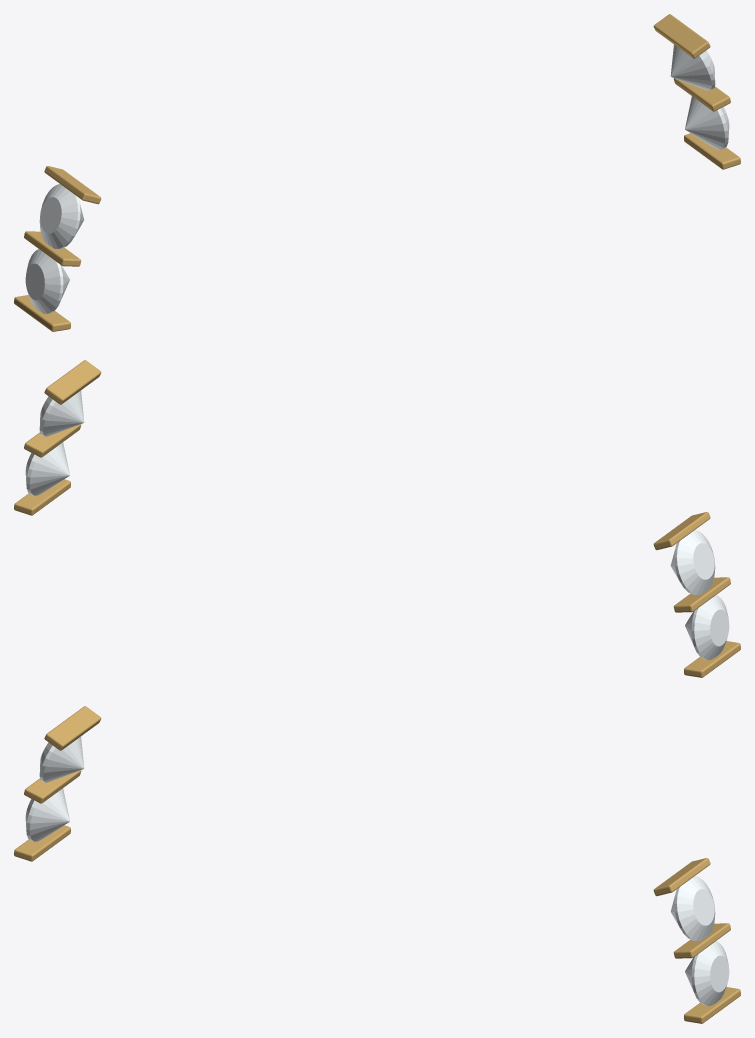
File: accents-bar-multi.glb
The picture shows the model from 3 angles, top to bottom: view 1: azimuth 30°, elevation 25°; view 2: azimuth 150°, elevation 25°; view 3: azimuth 330°, elevation 25°; orthographic projection.
Visible parts, largest first — view 1: Gem, Gem.001, Gem.003, Gem.002, Setting bar.003, Setting bar.005, Setting bar, Setting bar.002, Setting bar.004, Setting bar.001; view 2: Gem, Gem.001, Gem.003, Gem.002, Setting bar.003, Setting bar.005, Setting bar, Setting bar.002, Setting bar.004, Setting bar.001; view 3: Gem.002, Gem.003, Gem.001, Gem, Setting bar.002, Setting bar, Setting bar.005, Setting bar.003, Setting bar.001, Setting bar.004.
Boxes of the visible parts, x1,y1,x2,y2 form: Gem: (39,184,84,248); Gem.001: (25,249,69,313); Gem.003: (685,96,729,149); Gem.002: (670,44,715,90); Setting bar.003: (653,14,710,58); Setting bar.005: (684,133,740,169); Setting bar: (14,295,70,331); Setting bar.002: (44,166,101,204); Setting bar.004: (673,78,730,111); Setting bar.001: (24,231,81,266); Gem: (670,530,715,594); Gem.001: (685,595,729,659); Gem.003: (25,442,69,495); Gem.002: (39,390,84,436); Setting bar.003: (44,360,101,404); Setting bar.005: (14,479,70,515); Setting bar: (684,641,740,677); Setting bar.002: (653,512,710,550); Setting bar.004: (24,424,81,457); Setting bar.001: (673,577,730,612); Gem.002: (670,876,715,940); Gem.003: (685,941,729,1005); Gem.001: (25,788,69,841); Gem: (39,736,84,782); Setting bar.002: (44,706,101,750); Setting bar: (14,825,70,861); Setting bar.005: (684,987,740,1023); Setting bar.003: (653,858,710,896); Setting bar.001: (24,770,81,803); Setting bar.004: (673,923,730,958).
Bounding box in the file's own units: 19.86 × 3.63 × 1.95.
